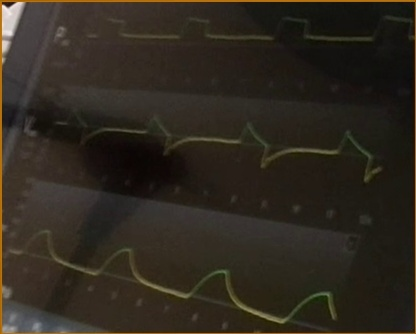Normal Flow: (54, 100, 380, 181)
Normal Volume: (7, 227, 339, 324)
